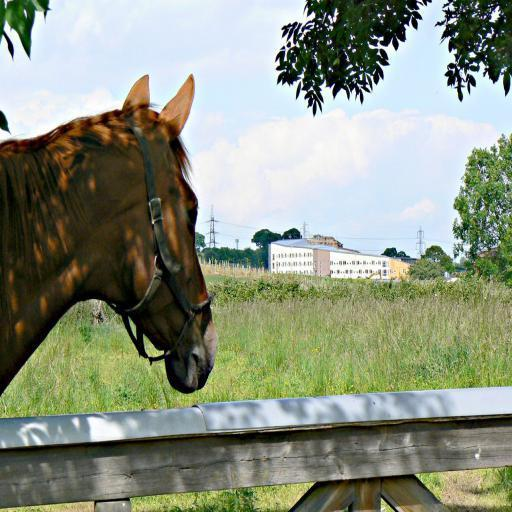horse: (0, 70, 220, 396)
